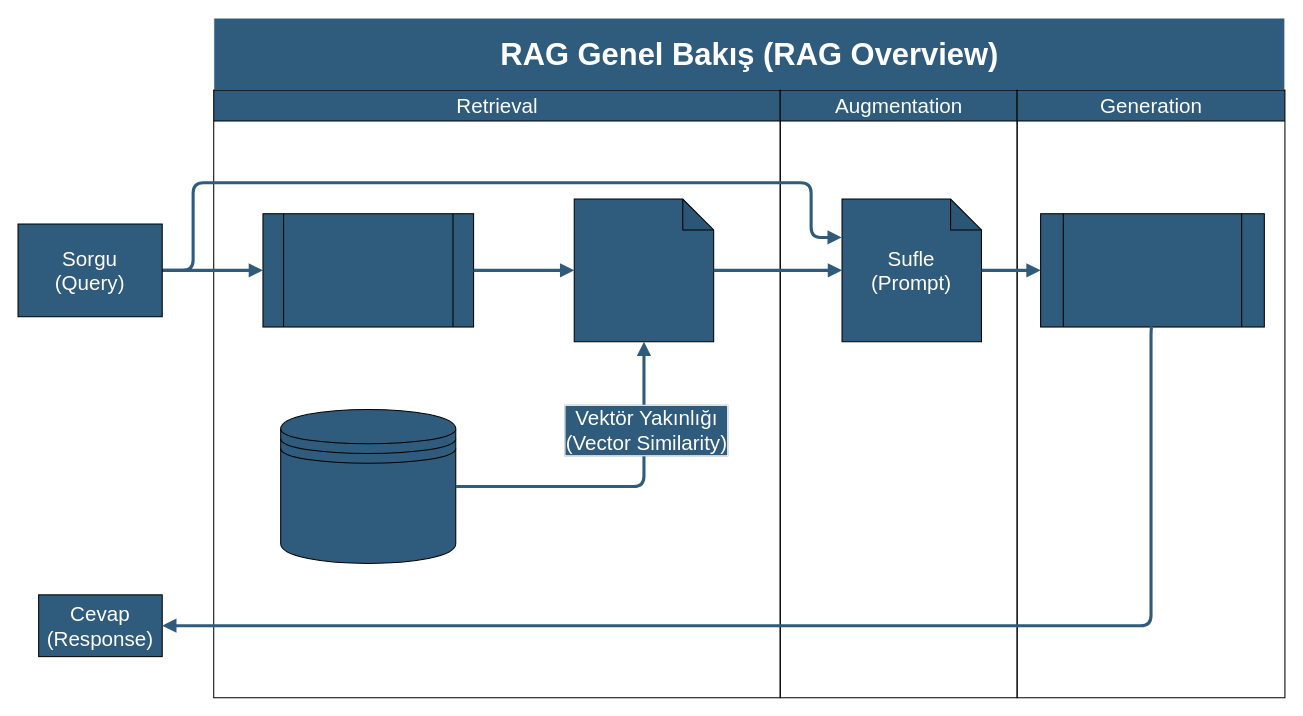
The diagram is 1303 pixels wide and 716 high, and some of its shapes have lost their labels. Here are the shapes that lost their labels. From the top down, the centre of each, then its label:
At [368,270]: "Anlamsal Metin Kodlama (Semantic Text Encoder)".
At [643,270]: "Bağlam (Context)".
At [1152,270]: "Dil Modeli (Language Model)".
At [368,485]: "Vektör Veritabanı (Vector DB)".
